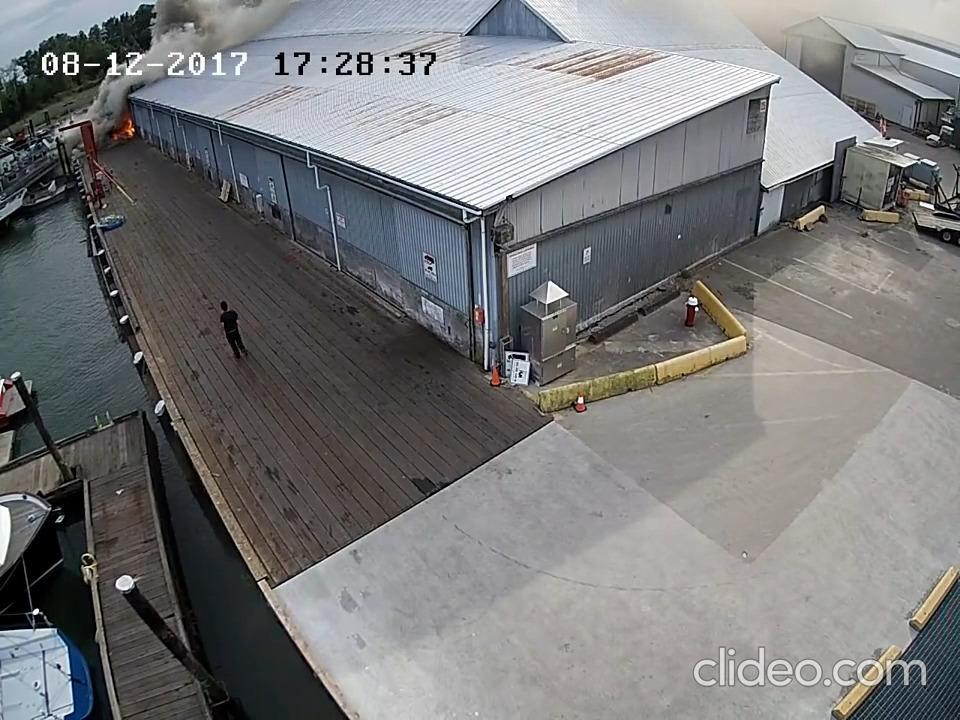fire: (110, 115, 138, 142)
